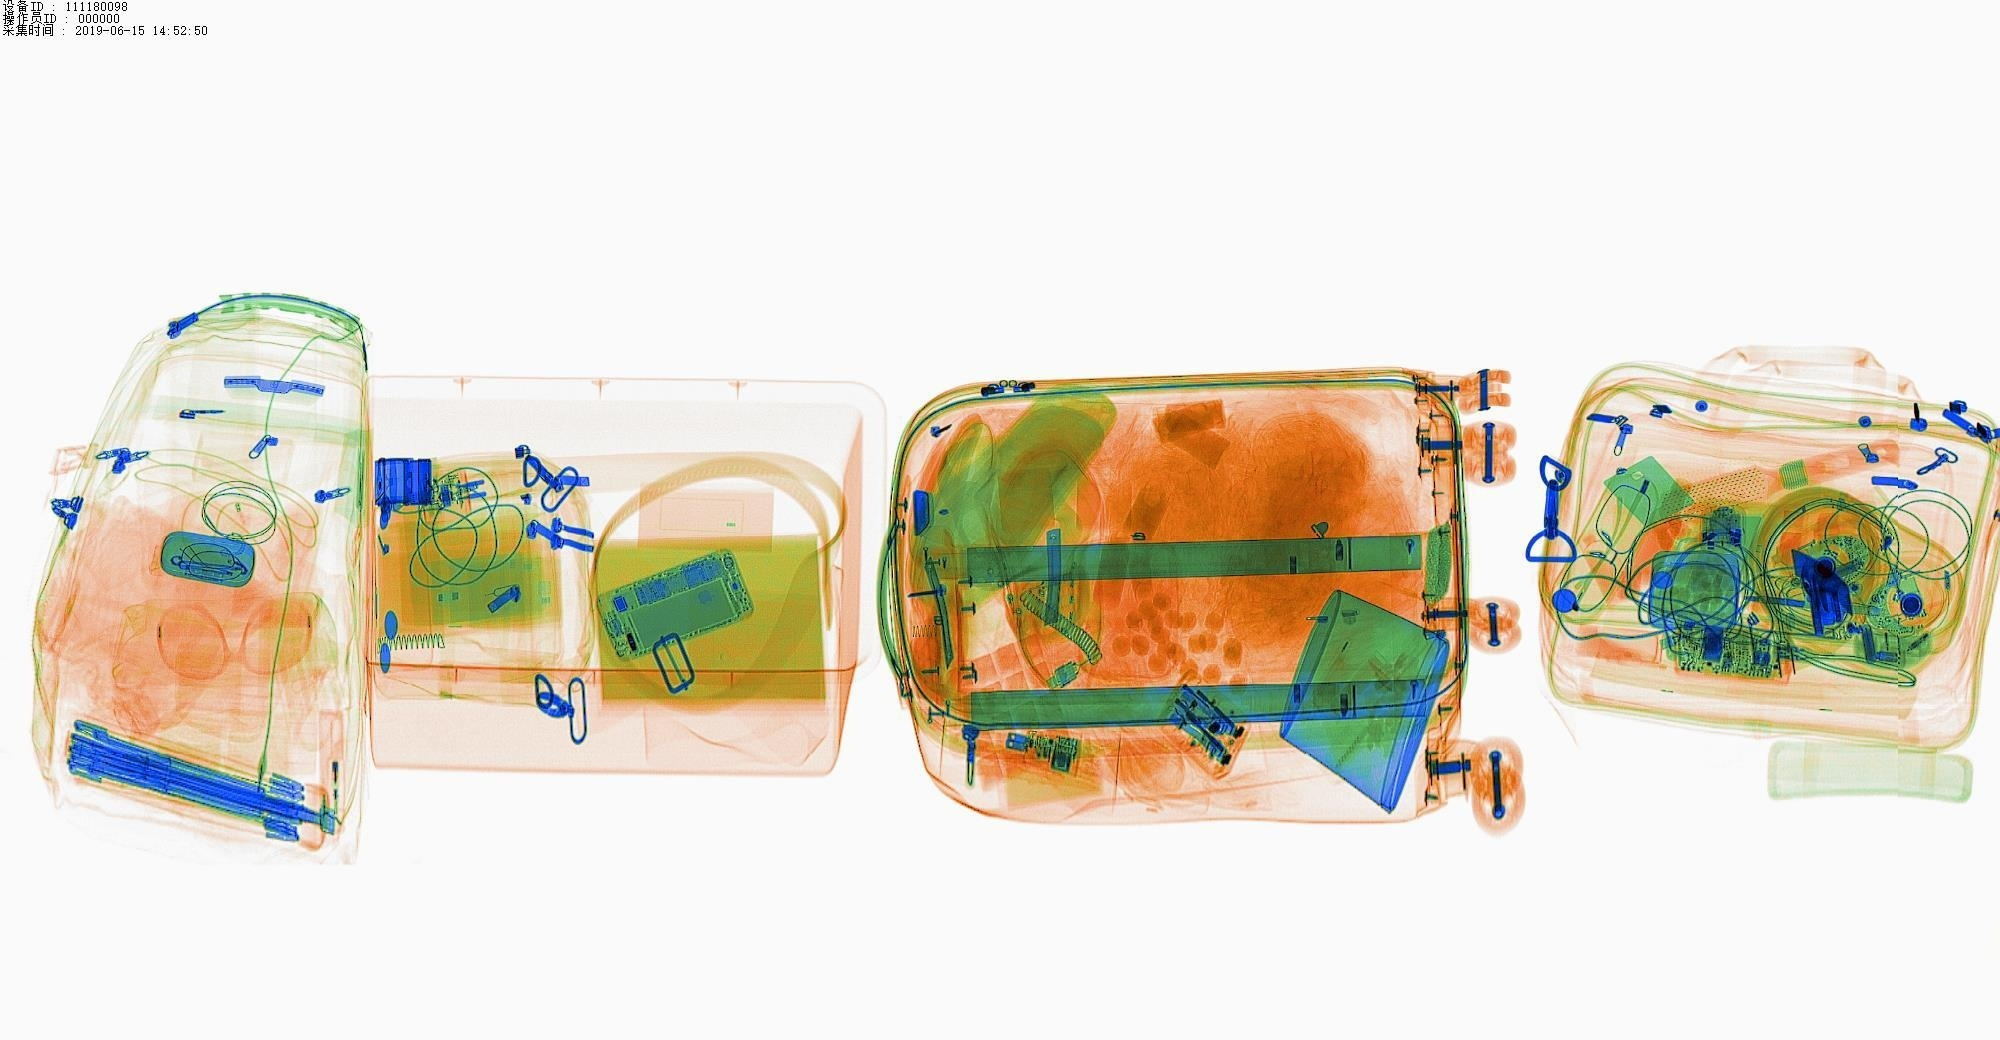NonmetallicFire: (306, 695, 358, 844)
